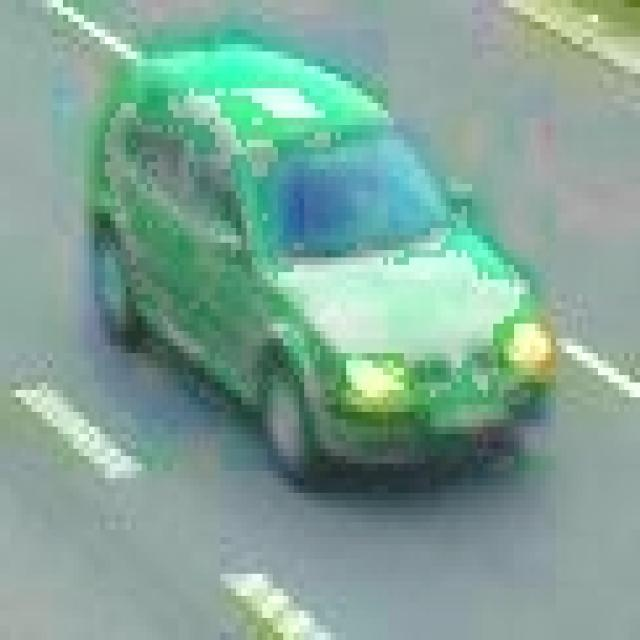green: (86, 41, 564, 474)
